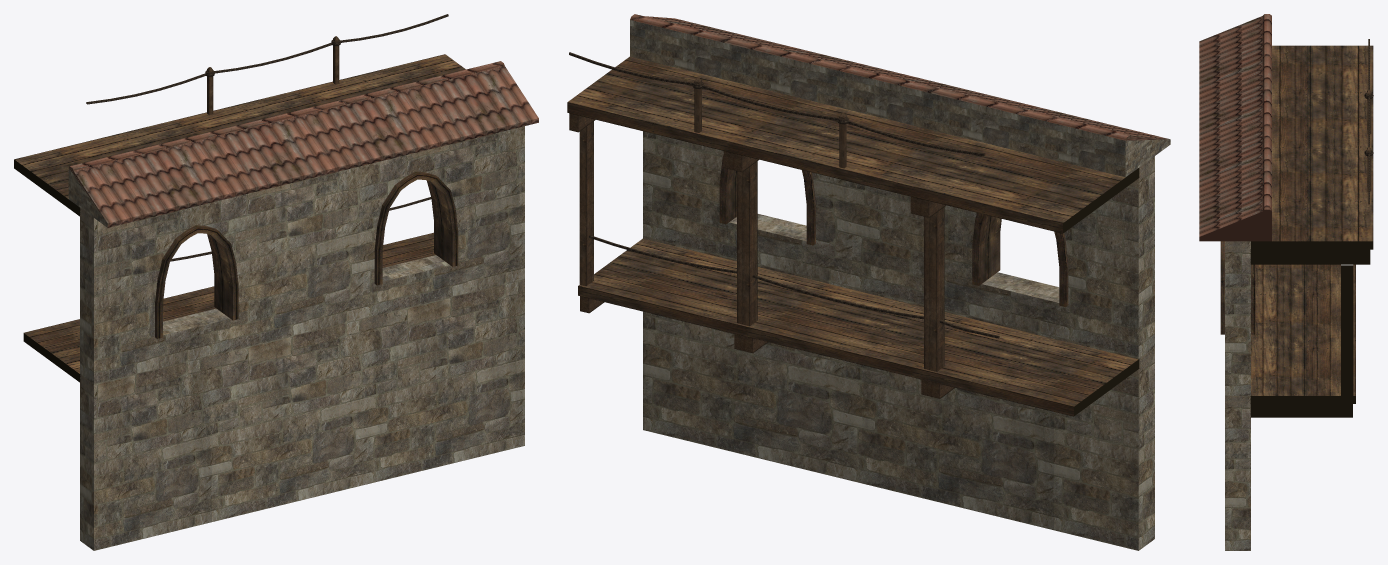
Rendered from FortWallL1.dae.
3 renders of one model, left to right at view 1: azimuth 30°, elevation 25°; view 2: azimuth 150°, elevation 25°; view 3: azimuth 270°, elevation 25°, orthographic. The views are drawn at different scales.
Parts seen in each view (by area): view 1: forts_stone_sep63-0; view 2: forts_stone_sep63-0; view 3: forts_stone_sep63-0.
Part boxes in pixels (box(x1,y1,x2,y2)): forts_stone_sep63-0: box(14, 14, 538, 550); forts_stone_sep63-0: box(567, 14, 1170, 550); forts_stone_sep63-0: box(1199, 14, 1373, 550).
Size of the model in its own units: 10.61 by 8.92 by 3.99.
